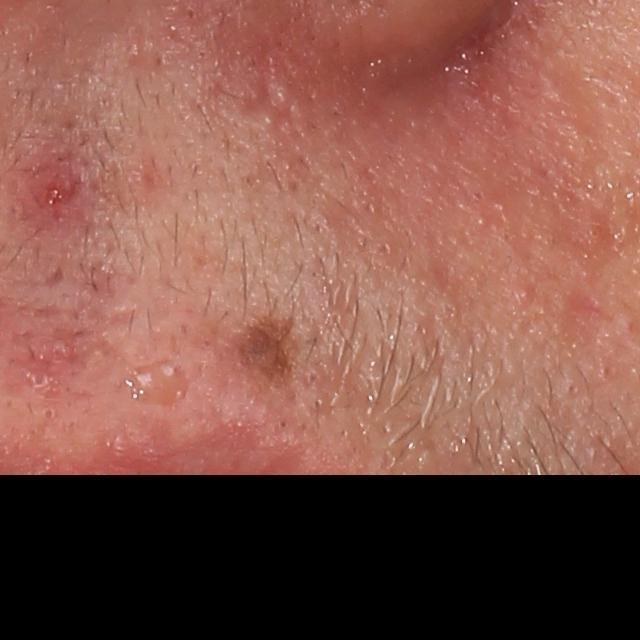atrophic_scar: (236, 51, 296, 145)
